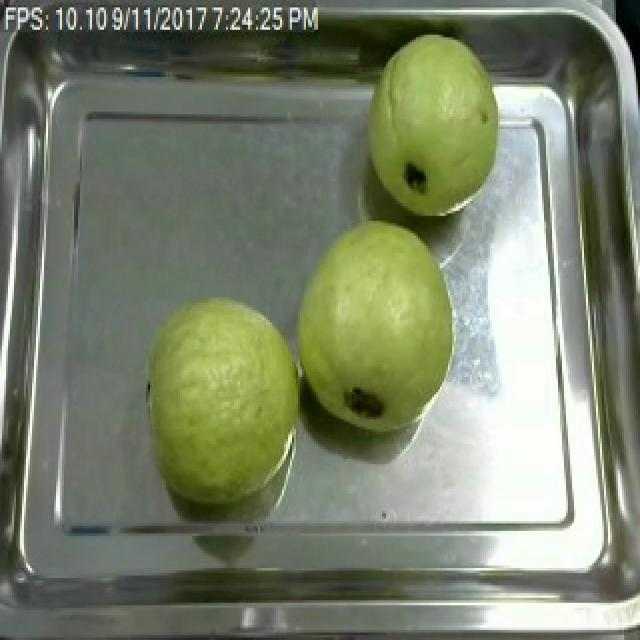Fruit: (288, 208, 464, 442), (138, 288, 314, 513), (354, 22, 512, 224)
